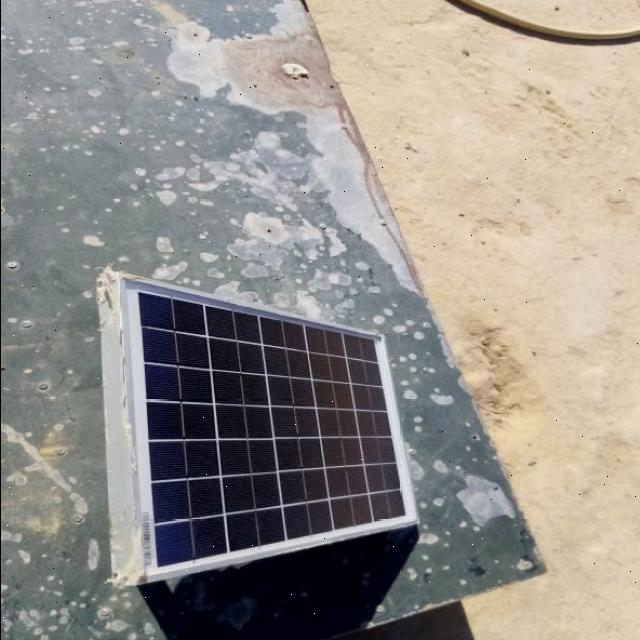Normal Solar Panel: (110, 274, 418, 580)
